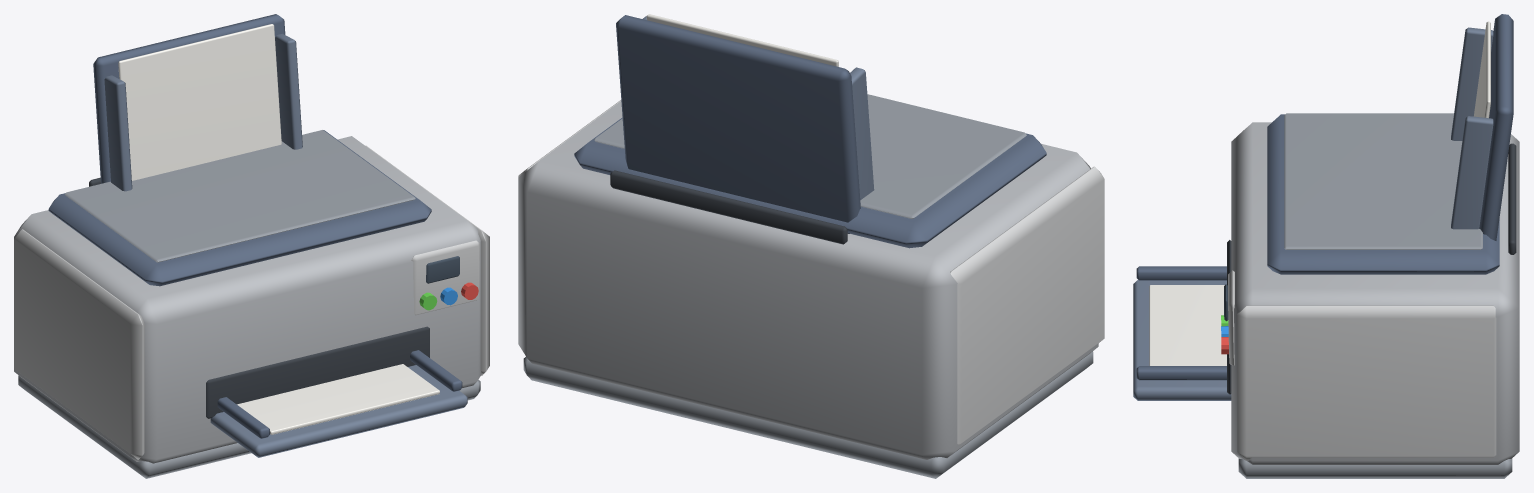
The model's file is Printer.fbx.
3 views of the same model, side by side, from view 1: azimuth 30°, elevation 25°; view 2: azimuth 150°, elevation 25°; view 3: azimuth 270°, elevation 25° (orthographic). The views are drawn at different scales.
Parts seen in each view (by area): view 1: Corpo principal, Superficie do scanner, Painel lateral, Folha no alimentador, Tampa superior, Abertura de saida, Papel na bandeja, Bandeja de saida, Suporte traseiro de papel, Base inferior, Painel de controle, Guia traseira.001 (+5 smaller); view 2: Corpo principal, Suporte traseiro de papel, Painel lateral, Superficie do scanner, Base inferior, Tampa superior, Ranhura traseira, Guia traseira, Folha no alimentador; view 3: Painel lateral.001, Superficie do scanner, Corpo principal, Tampa superior, Papel na bandeja, Suporte traseiro de papel, Base inferior, Bandeja de saida, Guia traseira.001, Guia traseira, Guia da bandeja.001, Guia da bandeja (+3 smaller).
Boxes of the visible parts, x1=… form: Corpo principal: x1=14, y1=136, x2=481, y2=463; Superficie do scanner: x1=64, y1=130, x2=415, y2=262; Painel lateral: x1=14, y1=229, x2=144, y2=459; Folha no alimentador: x1=118, y1=24, x2=281, y2=180; Tampa superior: x1=48, y1=130, x2=431, y2=286; Abertura de saida: x1=206, y1=326, x2=429, y2=418; Papel na bandeja: x1=237, y1=364, x2=439, y2=434; Bandeja de saida: x1=210, y1=365, x2=467, y2=457; Suporte traseiro de papel: x1=93, y1=14, x2=285, y2=183; Base inferior: x1=18, y1=375, x2=480, y2=478; Painel de controle: x1=411, y1=240, x2=479, y2=315; Guia traseira.001: x1=275, y1=33, x2=302, y2=149; Corpo principal: x1=518, y1=101, x2=1098, y2=459; Suporte traseiro de papel: x1=616, y1=15, x2=860, y2=233; Painel lateral: x1=950, y1=166, x2=1104, y2=444; Superficie do scanner: x1=594, y1=94, x2=1026, y2=218; Base inferior: x1=523, y1=351, x2=1093, y2=478; Tampa superior: x1=574, y1=117, x2=1046, y2=248; Ranhura traseira: x1=610, y1=170, x2=847, y2=244; Guia traseira: x1=850, y1=67, x2=874, y2=199; Folha no alimentador: x1=646, y1=14, x2=838, y2=66; Painel lateral.001: x1=1237, y1=305, x2=1496, y2=460; Superficie do scanner: x1=1284, y1=113, x2=1482, y2=249; Corpo principal: x1=1231, y1=122, x2=1519, y2=464; Tampa superior: x1=1267, y1=114, x2=1499, y2=274; Papel na bandeja: x1=1149, y1=285, x2=1226, y2=365; Suporte traseiro de papel: x1=1479, y1=14, x2=1513, y2=240; Base inferior: x1=1238, y1=458, x2=1512, y2=478; Bandeja de saida: x1=1133, y1=280, x2=1231, y2=400; Guia traseira.001: x1=1451, y1=116, x2=1493, y2=229; Guia traseira: x1=1451, y1=27, x2=1493, y2=140; Guia da bandeja.001: x1=1136, y1=366, x2=1226, y2=380; Guia da bandeja: x1=1136, y1=266, x2=1226, y2=280.
Bounding box in the file's own units: 329 × 274 × 288.
